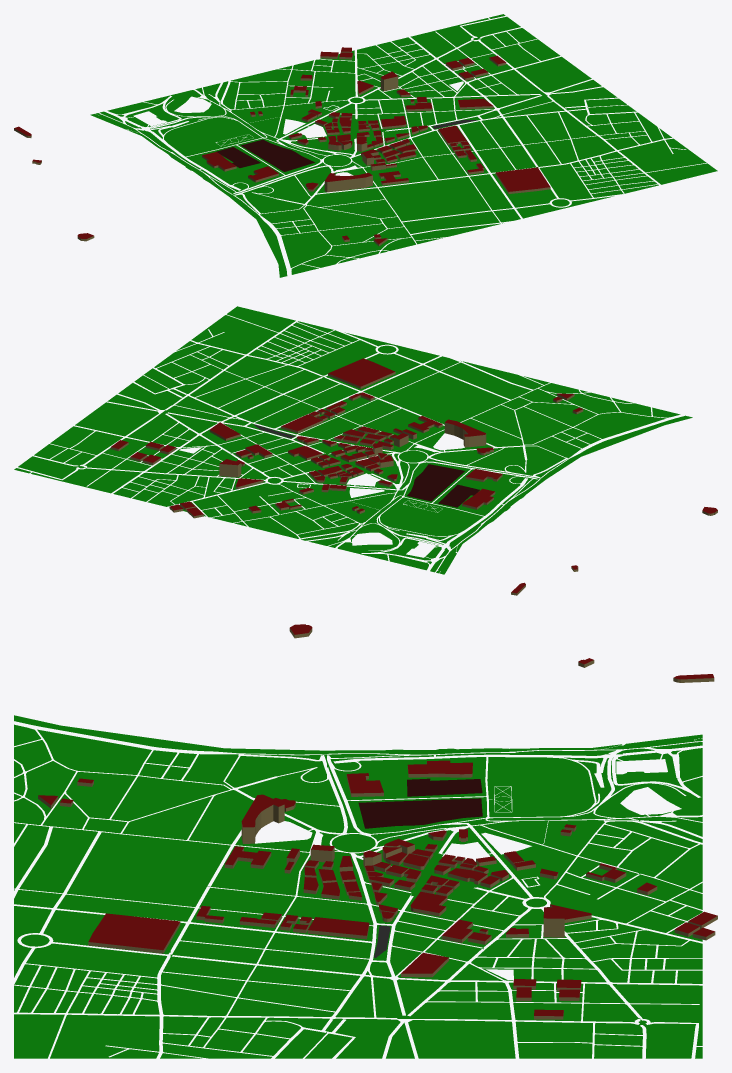
3 renders of one model, top to bottom at view 1: azimuth 30°, elevation 25°; view 2: azimuth 150°, elevation 25°; view 3: azimuth 270°, elevation 25°, orthographic. The views are drawn at different scales.
Parts seen in each view (by area): view 1: SurfaceArea96, SurfaceArea91, SurfaceArea107, SurfaceArea106, SurfaceArea92, SurfaceArea94, SurfaceArea108, SurfaceArea104, SurfaceArea109, SurfaceArea102, SurfaceArea99, SurfaceArea101 (+19 smaller); view 2: SurfaceArea96, SurfaceArea107, SurfaceArea91, SurfaceArea106, SurfaceArea92, SurfaceArea94, SurfaceArea108, SurfaceArea109, SurfaceArea104, SurfaceArea99, SurfaceArea102, SurfaceArea101 (+18 smaller); view 3: SurfaceArea96, SurfaceArea107, SurfaceArea91, SurfaceArea106, SurfaceArea92, SurfaceArea94, SurfaceArea108, SurfaceArea104, SurfaceArea102, SurfaceArea109, SurfaceArea99, SurfaceArea101 (+26 smaller).
Boxes of the visible parts, box(x1,y1,x2,y2) form: SurfaceArea96: box(365, 189, 497, 244); SurfaceArea91: box(281, 209, 413, 265); SurfaceArea107: box(486, 112, 617, 167); SurfaceArea106: box(539, 147, 666, 203); SurfaceArea92: box(233, 174, 364, 229); SurfaceArea94: box(135, 102, 267, 158); SurfaceArea108: box(437, 76, 569, 132); SurfaceArea104: box(304, 61, 435, 117); SurfaceArea109: box(388, 40, 520, 96); SurfaceArea102: box(408, 132, 532, 188); SurfaceArea99: box(219, 82, 345, 137); SurfaceArea101: box(450, 176, 582, 224); SurfaceArea96: box(415, 362, 553, 420); SurfaceArea107: box(189, 356, 325, 414); SurfaceArea91: box(503, 383, 640, 441); SurfaceArea106: box(239, 319, 377, 377); SurfaceArea92: box(452, 420, 590, 478); SurfaceArea94: box(351, 495, 488, 553); SurfaceArea108: box(138, 393, 275, 451); SurfaceArea109: box(87, 430, 225, 488); SurfaceArea104: box(175, 452, 310, 510); SurfaceArea99: box(263, 475, 400, 531); SurfaceArea102: box(277, 378, 414, 435); SurfaceArea101: box(327, 340, 465, 398); SurfaceArea96: box(14, 820, 170, 886); SurfaceArea107: box(170, 952, 326, 1018); SurfaceArea91: box(14, 754, 170, 820); SurfaceArea106: box(14, 952, 170, 1018); SurfaceArea92: box(170, 754, 326, 820); SurfaceArea94: box(483, 754, 640, 820); SurfaceArea108: box(327, 952, 483, 1018); SurfaceArea104: box(483, 886, 640, 952); SurfaceArea102: box(170, 886, 326, 952); SurfaceArea109: box(483, 952, 640, 1018); SurfaceArea99: box(483, 820, 640, 886); SurfaceArea101: box(14, 886, 170, 952).
Bounding box in the file's own units: 1952 × 40 × 1349.
